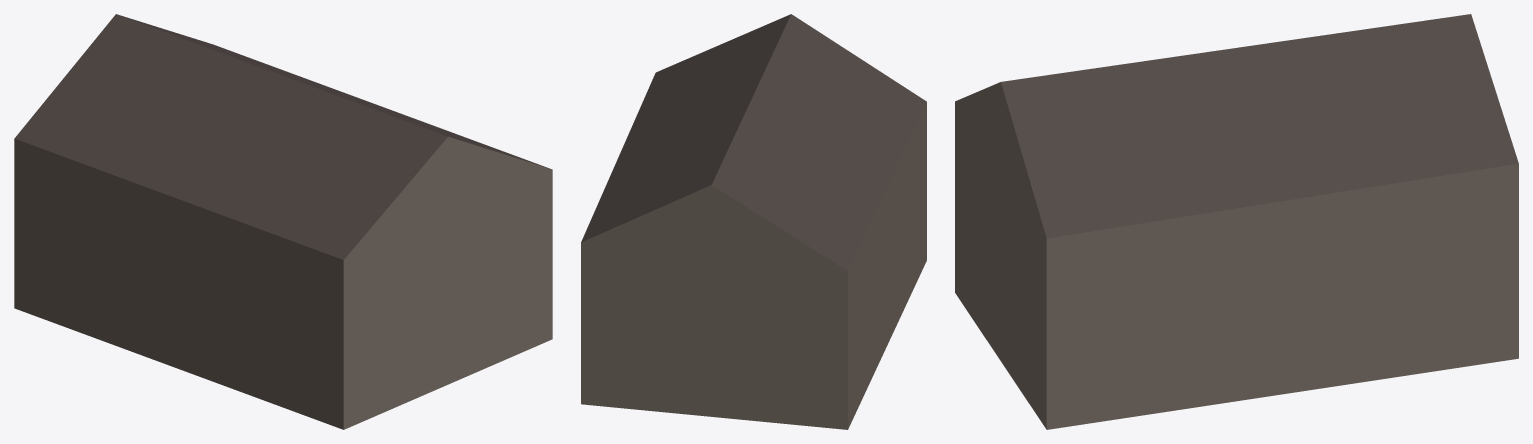
3 views of the same model, side by side, from view 1: azimuth 30°, elevation 25°; view 2: azimuth 150°, elevation 25°; view 3: azimuth 270°, elevation 25° (orthographic). The views are drawn at different scales.
Parts seen in each view (by area): view 1: HP-w776801018; view 2: HP-w776801018; view 3: HP-w776801018.
Boxes of the visible parts, x1,y1,x2,y2 form: HP-w776801018: [14, 14, 552, 429]; HP-w776801018: [581, 14, 926, 429]; HP-w776801018: [955, 14, 1518, 429].
Size of the model in its own units: 13.75 by 8.76 by 16.02.
